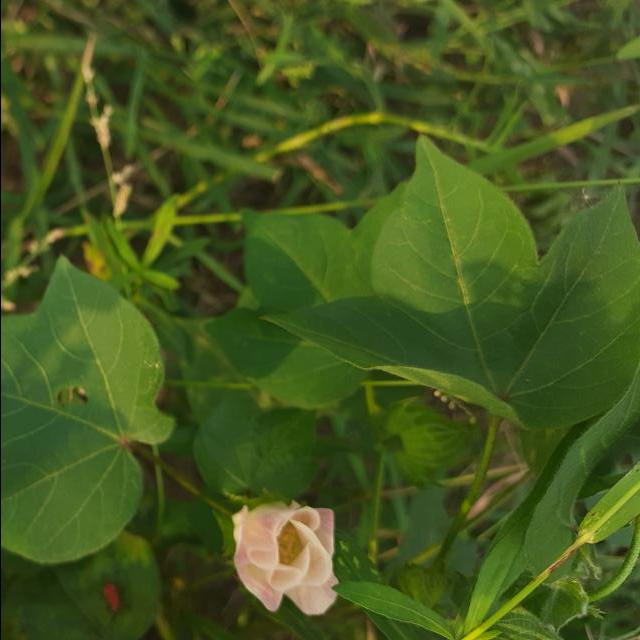Cotton Blossom: (210, 478, 338, 617)
